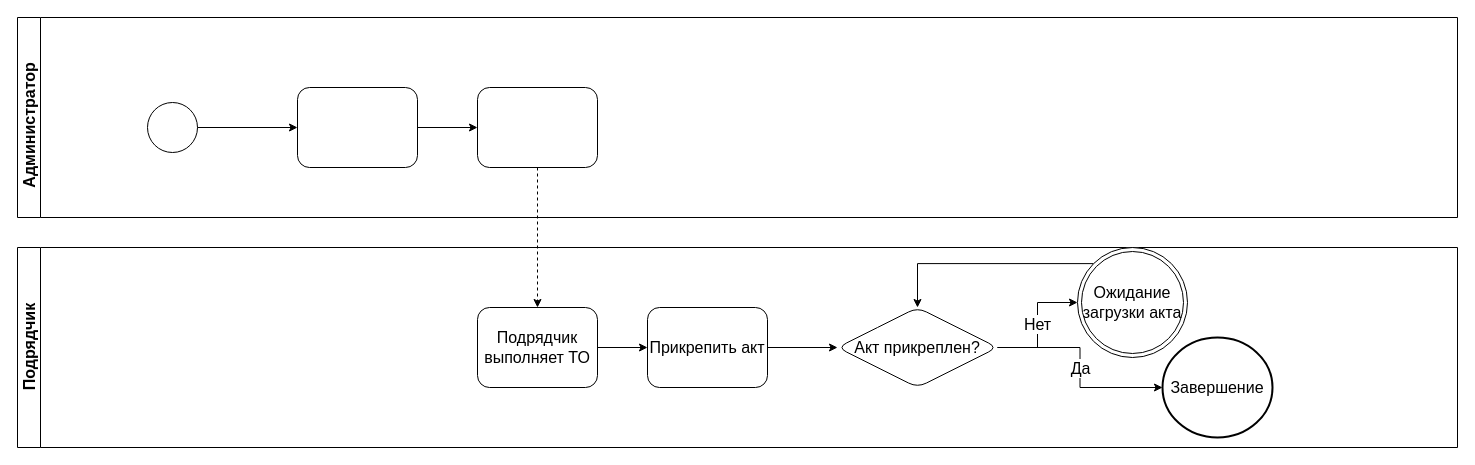
Some shapes in this 1475 by 465 pixel diagram are drawn without their labels. Here are the shapes that lost their labels. From the top down, the centre of each, then its label:
At (x=172, y=127): "Дата следующего ТО наступила".
At (x=357, y=127): "Создать задачу ТО".
At (x=537, y=127): "Уведомить подрядчика".
